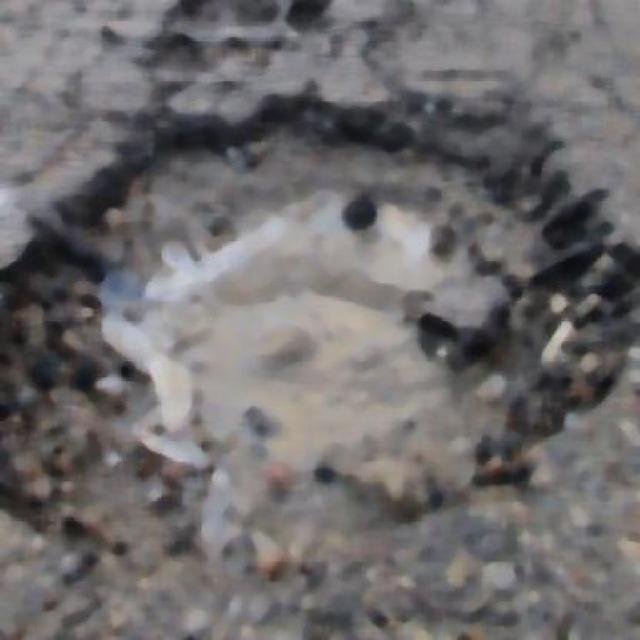Pothole: (64, 108, 516, 503)
